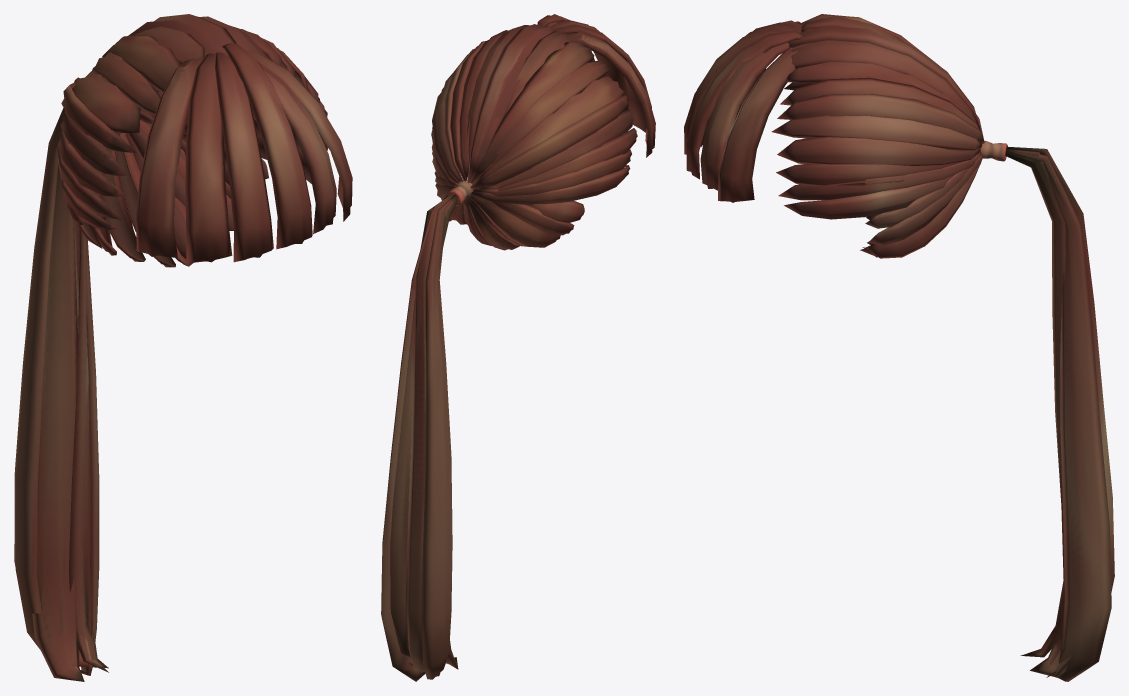
File: modular_pony.glb
The picture shows the model from 3 angles, left to right: view 1: azimuth 30°, elevation 25°; view 2: azimuth 150°, elevation 25°; view 3: azimuth 270°, elevation 25°; orthographic projection. The views are drawn at different scales.
Parts seen in each view (by area): view 1: ponyback, ponyfront, ponyright, ponyleft; view 2: ponyback, ponyright, ponyleft, ponyfront; view 3: ponyleft, ponyback, ponyfront, ponyright.
Boxes of the visible parts, x1,y1,x2,y2 form: ponyback: [14, 77, 108, 681]; ponyfront: [136, 43, 352, 263]; ponyright: [56, 26, 204, 267]; ponyleft: [119, 14, 328, 266]; ponyback: [381, 194, 458, 681]; ponyright: [466, 31, 637, 250]; ponyleft: [431, 24, 552, 245]; ponyfront: [526, 14, 655, 157]; ponyleft: [771, 26, 984, 258]; ponyback: [1005, 146, 1114, 681]; ponyfront: [684, 20, 814, 202]; ponyright: [784, 14, 983, 244].
Size of the model in its own units: 0.1871 by 0.5675 by 0.3415.
1 material, 1 textured.
